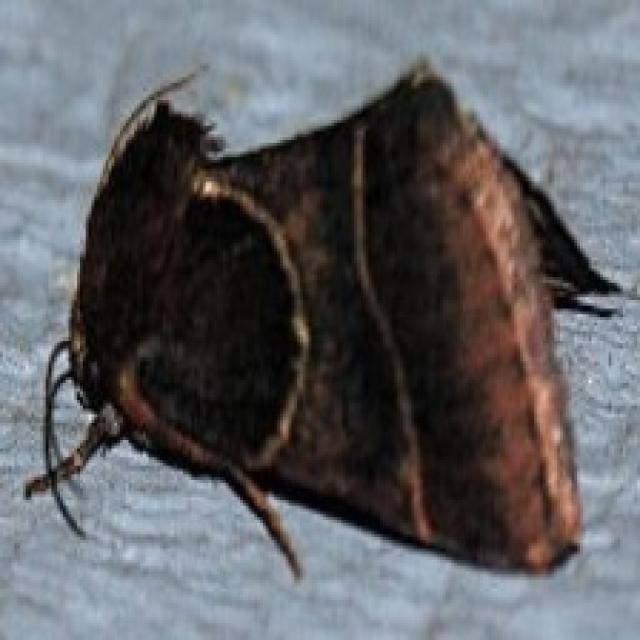butterfly: (23, 51, 623, 583)
